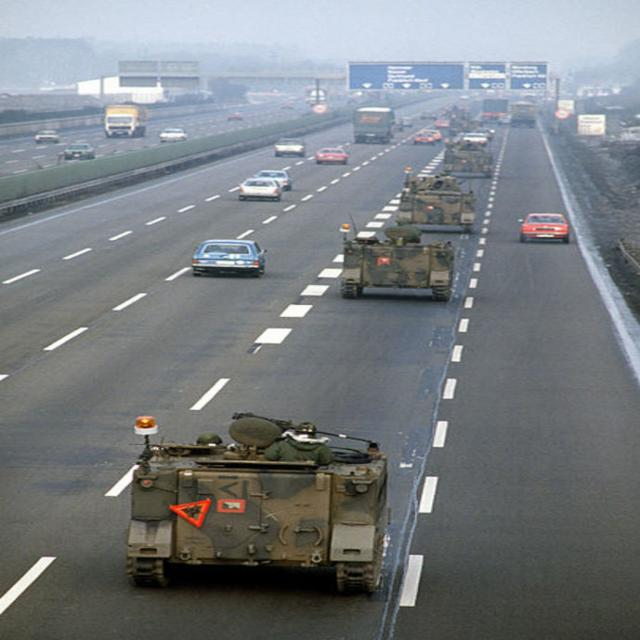tank: (126, 409, 395, 592), (342, 212, 454, 292), (394, 167, 475, 233), (443, 139, 492, 177)
